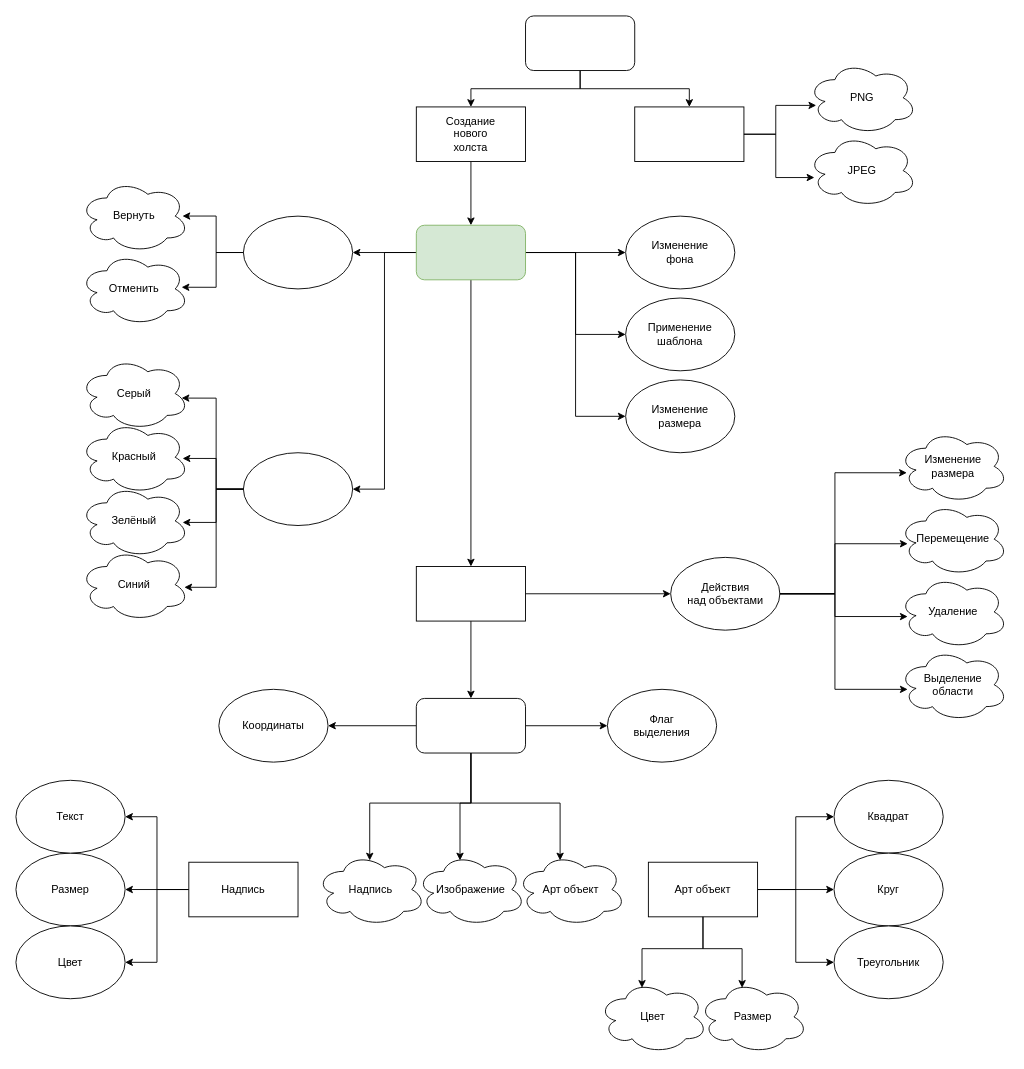
The diagram is 1024 pixels wide and 1069 high, and some of its shapes have lost their labels. The shapes that lost their labels are listed below. From the top down, each one's centre as x and y in pixels, then its label:
point (580, 43): Редактор
point (689, 134): Сохранить холст
point (298, 252): История команд
point (470, 252): Холст
point (298, 489): Добавление фильтра
point (470, 593): Список объектов
point (470, 725): Объект
